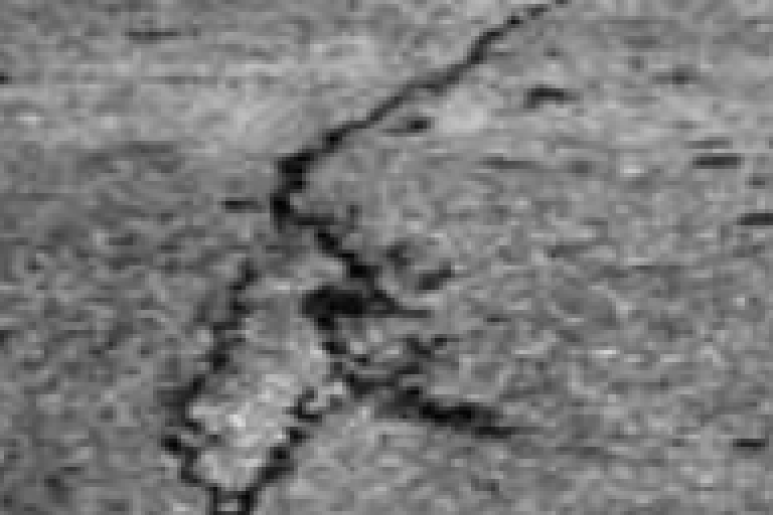Retak Memanjang: (143, 73, 490, 515), (384, 1, 540, 97)
